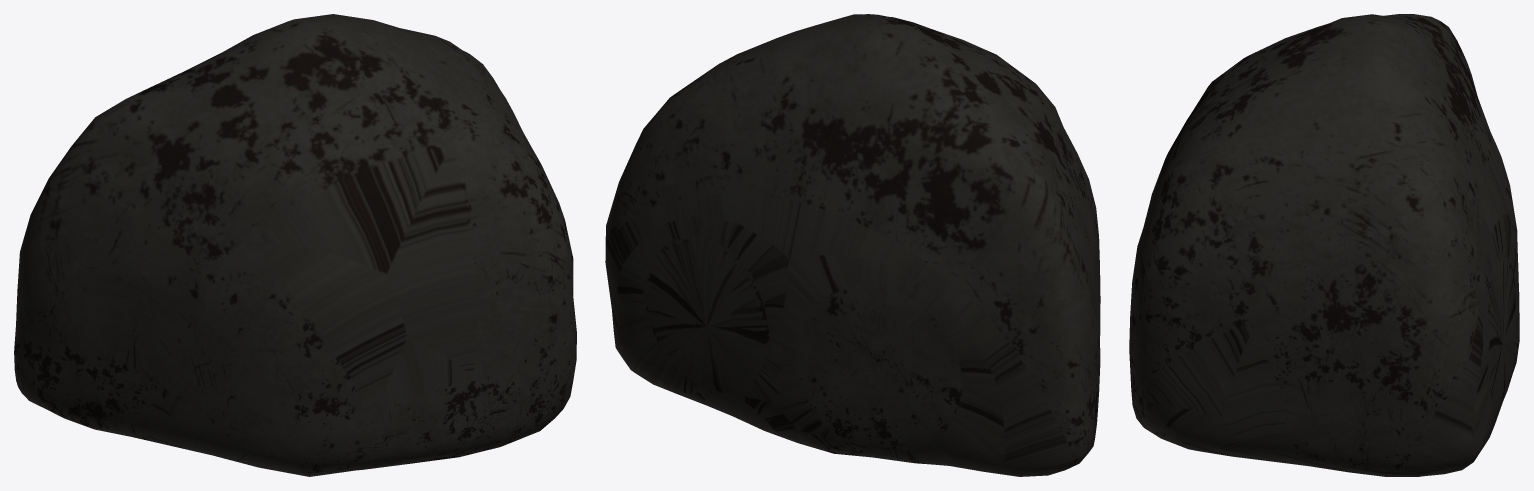
The model's file is Rock_6.FBX.
3 renders of one model, left to right at view 1: azimuth 30°, elevation 25°; view 2: azimuth 150°, elevation 25°; view 3: azimuth 270°, elevation 25°, orthographic. The views are drawn at different scales.
Visible parts, largest first — view 1: Rock06_low; view 2: Rock06_low; view 3: Rock06_low.
Part boxes in pixels (left/top/right/bottom): Rock06_low: left=14, top=14, right=576, bottom=476; Rock06_low: left=605, top=14, right=1100, bottom=476; Rock06_low: left=1129, top=14, right=1519, bottom=476.
Size of the model in its own units: 3404 by 2546 by 2433.
